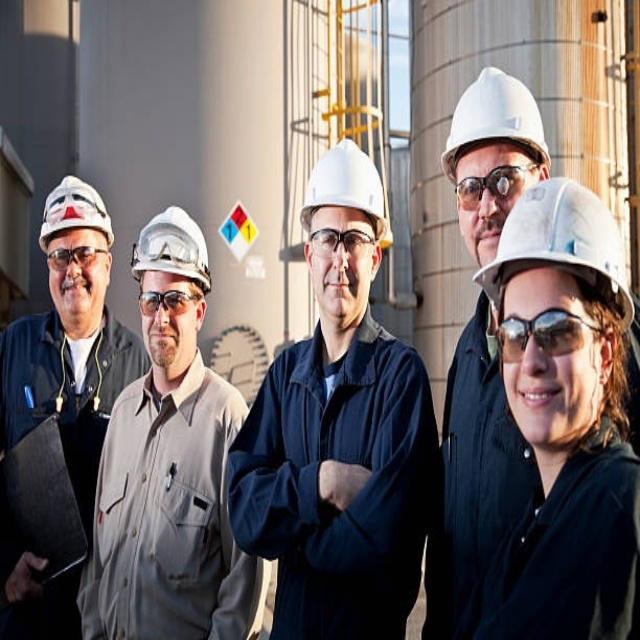Gafas: (496, 311, 600, 358), (455, 160, 535, 213), (306, 227, 374, 265), (136, 285, 198, 318), (44, 243, 108, 271)
Sin_guantes: (4, 550, 48, 605)
Sin_mascara: (511, 375, 564, 431), (322, 273, 358, 317), (59, 275, 95, 312), (147, 326, 181, 361), (473, 220, 500, 264)
